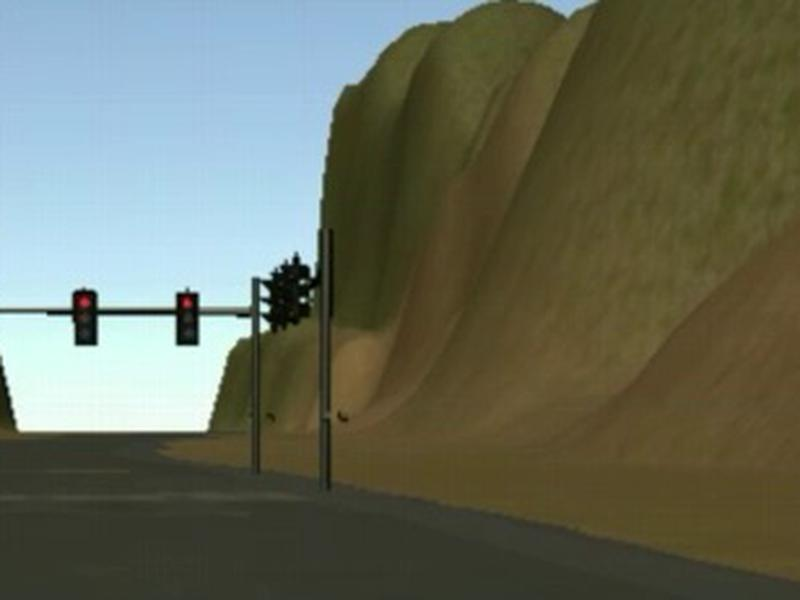Red: (174, 292, 198, 345), (72, 291, 96, 344)
